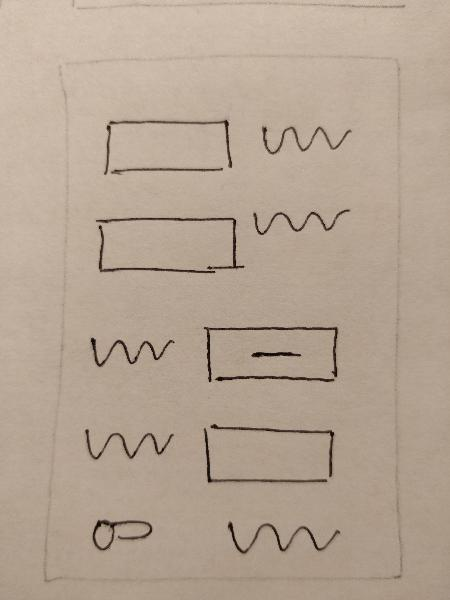button: (195, 316, 347, 389)
switch: (72, 506, 167, 557)
text: (207, 507, 350, 567), (75, 413, 184, 471), (81, 319, 180, 379), (251, 113, 357, 164), (243, 199, 357, 242)
text_input: (195, 411, 340, 501), (89, 207, 245, 281), (95, 110, 236, 184)
